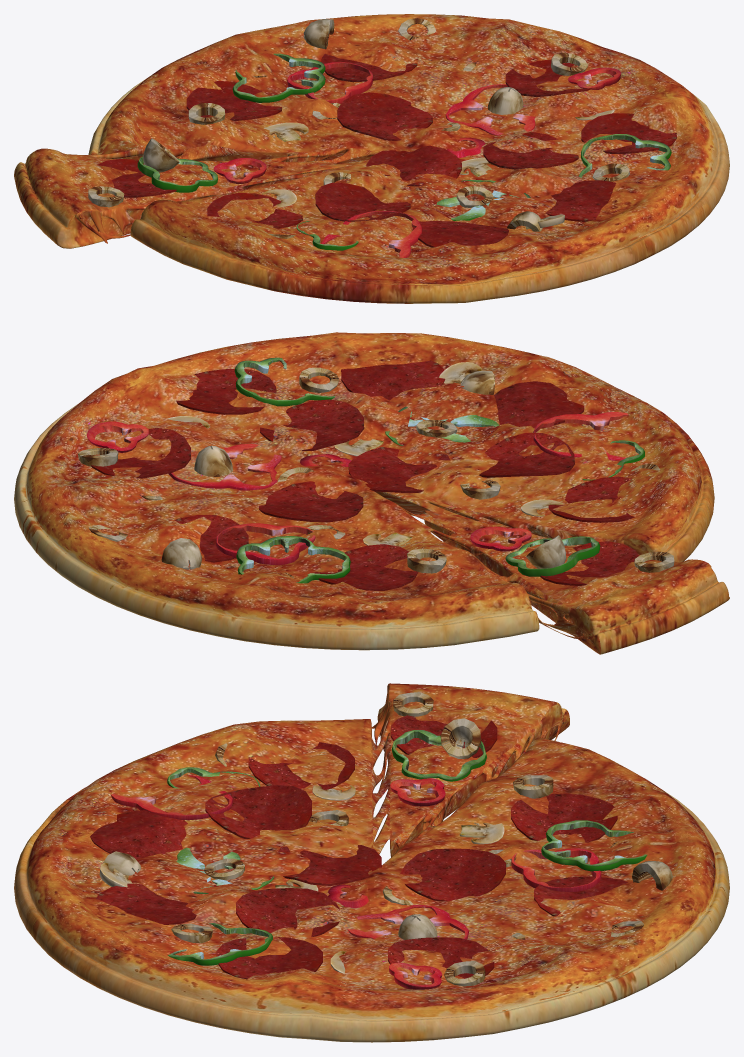
The model's file is Pizza.fbx.
3 views of the same model, one above another, from view 1: azimuth 30°, elevation 25°; view 2: azimuth 150°, elevation 25°; view 3: azimuth 270°, elevation 25° (orthographic). The views are drawn at different scales.
Visible parts, largest first — view 1: polySurface1, polySurface25, polySurface22, polySurface30, polySurface28, polySurface31, polySurface24, polySurface21, polySurface29, polySurface44, polySurface27, polySurface23 (+20 smaller); view 2: polySurface1, polySurface21, polySurface25, polySurface29, polySurface22, polySurface31, polySurface24, polySurface28, polySurface30, polySurface27, polySurface23, polySurface44 (+20 smaller); view 3: polySurface1, polySurface25, polySurface22, polySurface21, polySurface24, polySurface29, polySurface28, polySurface30, polySurface31, polySurface27, polySurface44, polySurface20 (+20 smaller).
Part boxes in pixels (x1=…): polySurface1: x1=14, y1=14, x2=729, y2=303; polySurface25: x1=337, y1=92, x2=432, y2=140; polySurface22: x1=315, y1=182, x2=410, y2=221; polySurface30: x1=366, y1=145, x2=461, y2=186; polySurface28: x1=581, y1=113, x2=676, y2=153; polySurface31: x1=545, y1=180, x2=616, y2=221; polySurface24: x1=186, y1=81, x2=281, y2=121; polySurface21: x1=412, y1=220, x2=508, y2=247; polySurface29: x1=483, y1=131, x2=578, y2=169; polySurface44: x1=232, y1=53, x2=325, y2=102; polySurface27: x1=505, y1=59, x2=590, y2=96; polySurface23: x1=97, y1=159, x2=176, y2=197; polySurface1: x1=14, y1=332, x2=729, y2=654; polySurface21: x1=494, y1=381, x2=584, y2=428; polySurface25: x1=259, y1=481, x2=363, y2=522; polySurface29: x1=260, y1=399, x2=364, y2=450; polySurface22: x1=479, y1=433, x2=574, y2=477; polySurface31: x1=341, y1=360, x2=445, y2=400; polySurface24: x1=314, y1=544, x2=418, y2=590; polySurface28: x1=176, y1=369, x2=276, y2=414; polySurface30: x1=348, y1=447, x2=449, y2=492; polySurface27: x1=91, y1=428, x2=190, y2=478; polySurface23: x1=540, y1=541, x2=639, y2=585; polySurface44: x1=236, y1=536, x2=350, y2=583; polySurface1: x1=14, y1=683, x2=729, y2=1042; polySurface25: x1=399, y1=848, x2=505, y2=901; polySurface22: x1=205, y1=785, x2=311, y2=838; polySurface21: x1=90, y1=810, x2=187, y2=859; polySurface24: x1=511, y1=793, x2=617, y2=842; polySurface29: x1=236, y1=888, x2=339, y2=936; polySurface28: x1=216, y1=937, x2=322, y2=979; polySurface30: x1=278, y1=845, x2=381, y2=885; polySurface31: x1=96, y1=883, x2=196, y2=924; polySurface27: x1=388, y1=937, x2=494, y2=978; polySurface44: x1=541, y1=820, x2=647, y2=871; polySurface20: x1=248, y1=742, x2=354, y2=789.
Bounding box in the file's own units: 25.72 × 2.06 × 23.02.
Materials: 3 (3 with a texture image).
